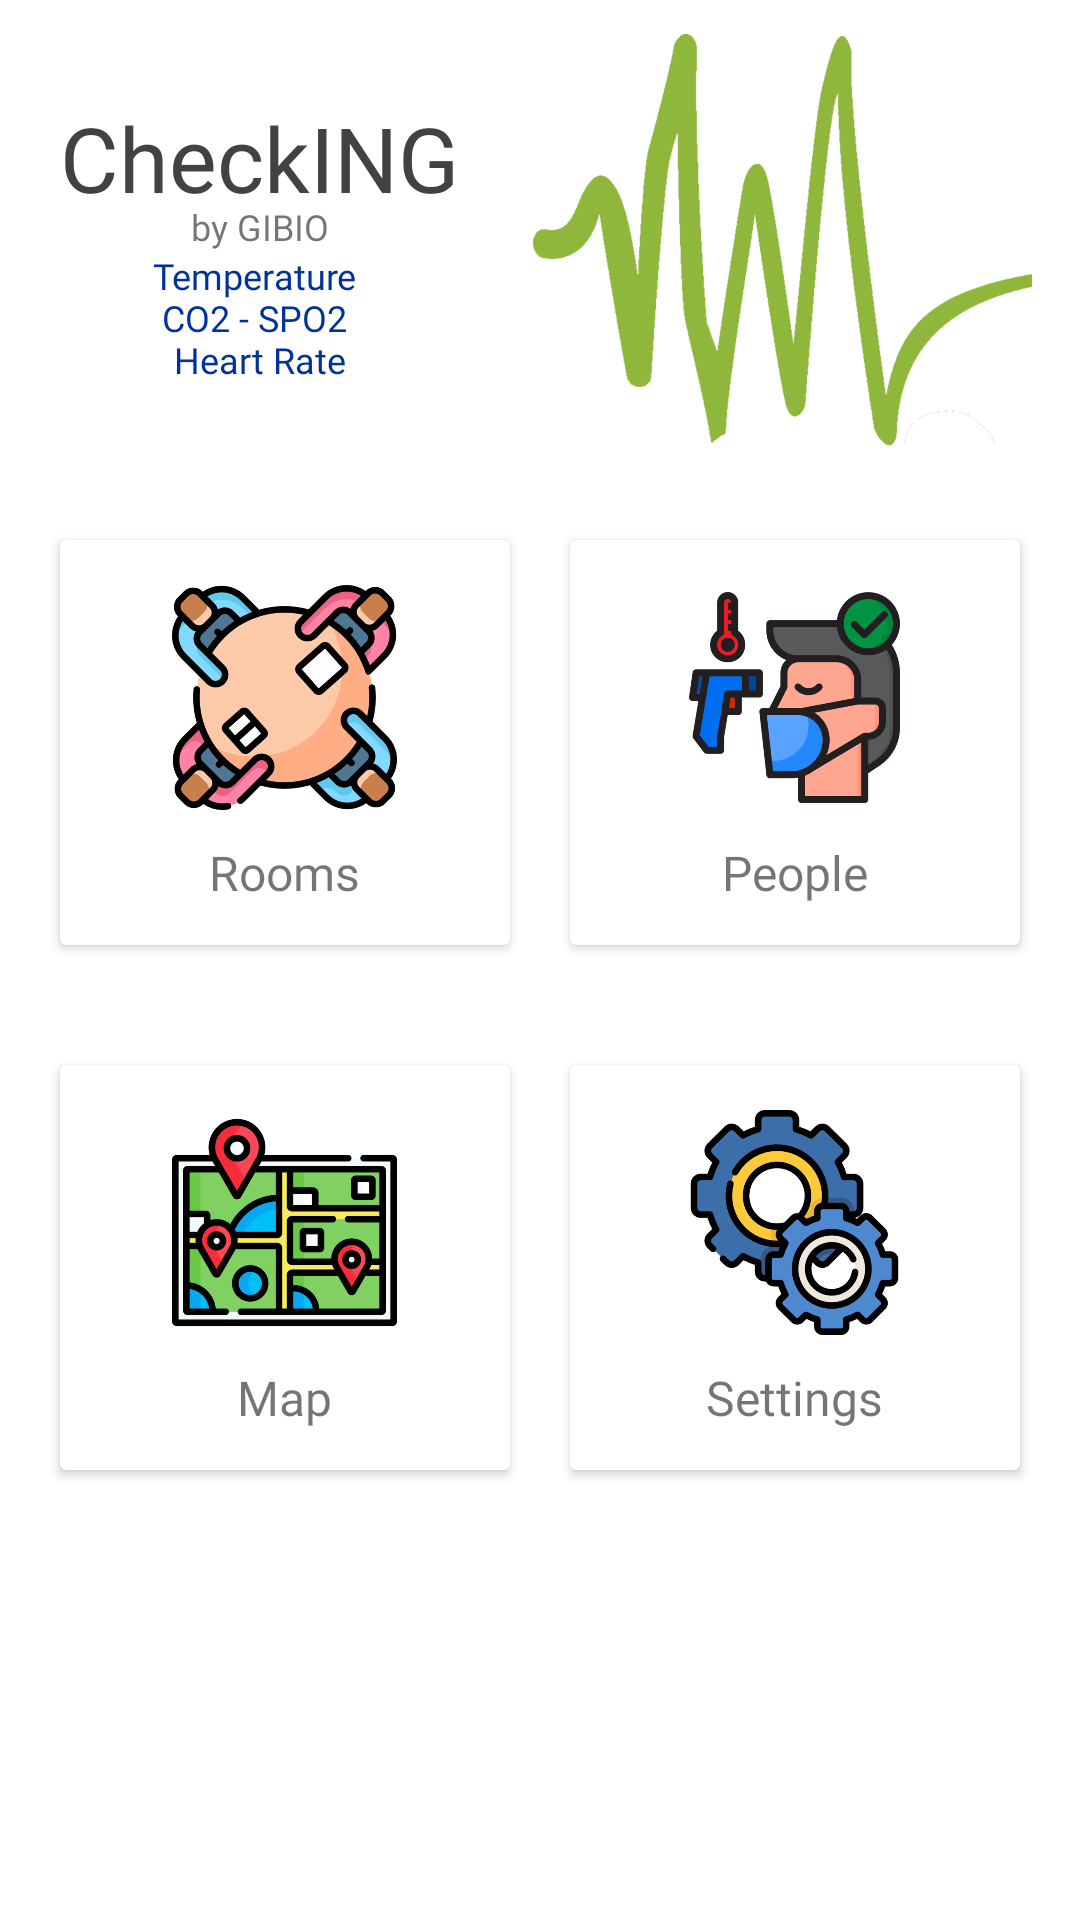

Where to tap for icons on this 1080×1920 app screen, as point (x, y):
street map: point (284, 1222)
thermometer person: point (794, 697)
